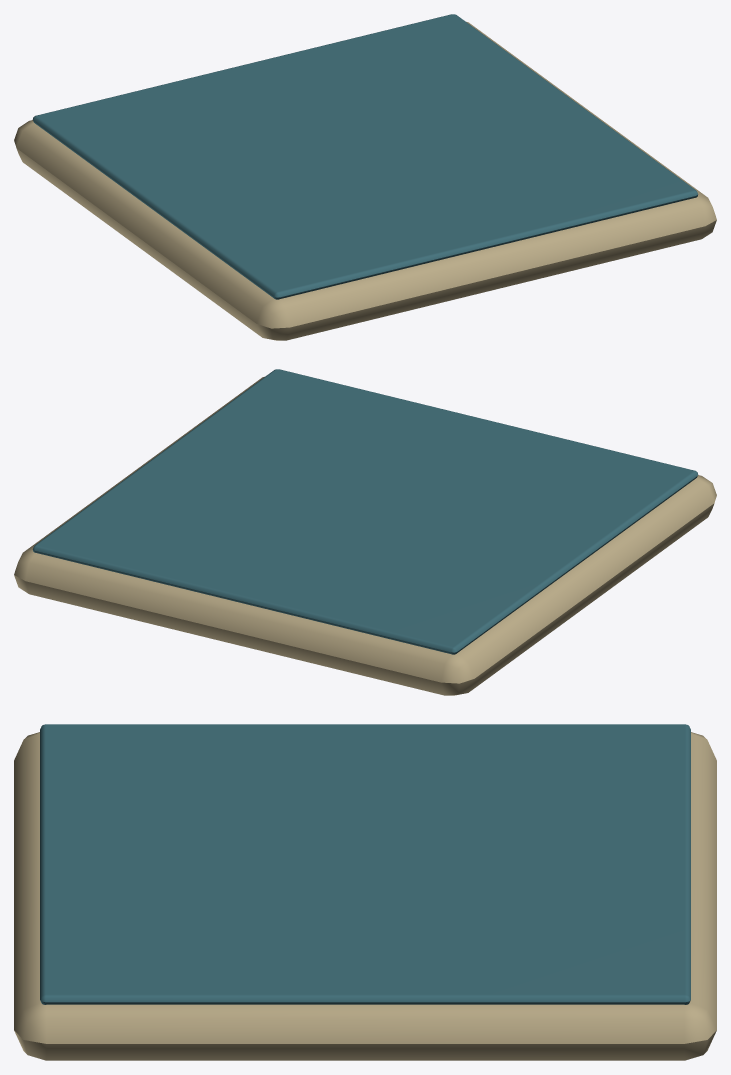
File: pond.glb
3 renders of one model, top to bottom at view 1: azimuth 30°, elevation 25°; view 2: azimuth 150°, elevation 25°; view 3: azimuth 270°, elevation 25°, orthographic. The views are drawn at different scales.
Visible parts, largest first — view 1: Pool; view 2: Pool; view 3: Pool.
Boxes of the visible parts, x1,y1,x2,y2 form: Pool: (14, 14, 716, 340); Pool: (14, 369, 716, 695); Pool: (14, 724, 716, 1060).
Size of the model in its own units: 1.08 by 0.111 by 1.08.
